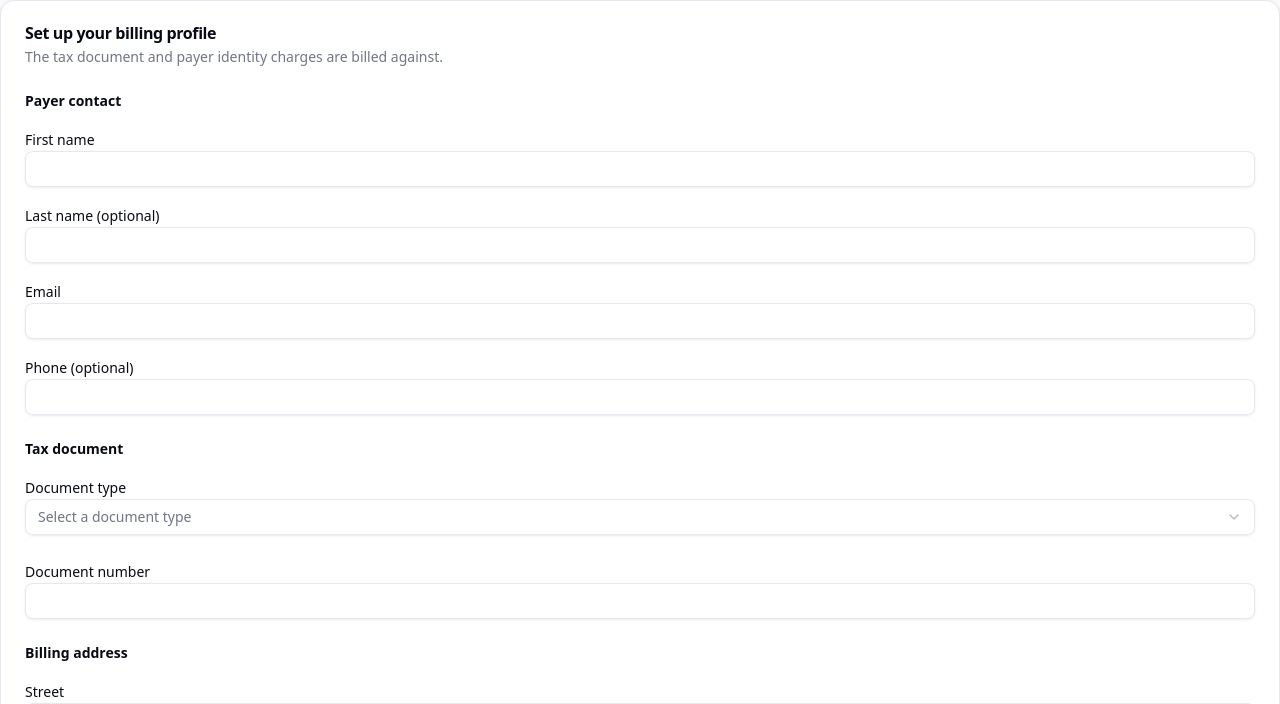
it: BillingProfileForm (Phase 6) › rejects a missing required field and does not submit
The image size is (1280, 704).
In the field labelled "Email": coordinates (640, 321) [25, 303, 1255, 339], type "grace@example.com"
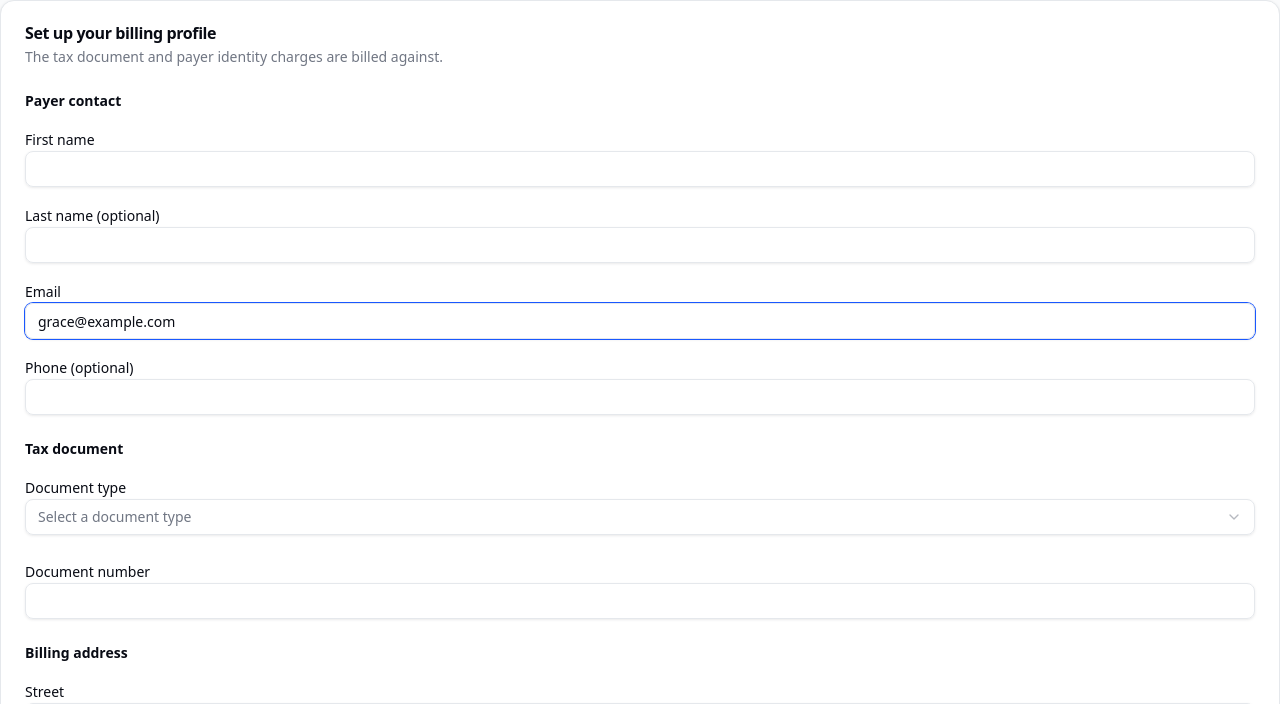
Click the dropdown labelled "document type": coordinates (115, 516) [25, 499, 1255, 535]
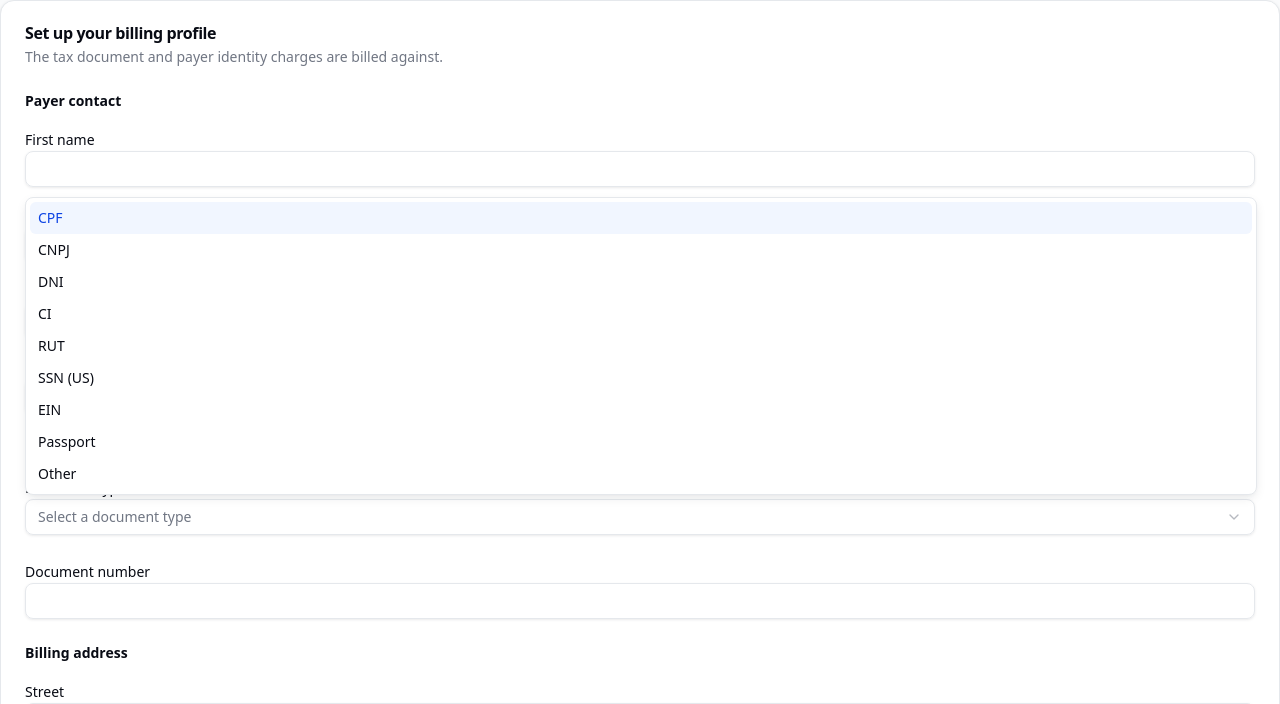
Click the option "Other": coordinates (57, 474) [38, 464, 76, 483]
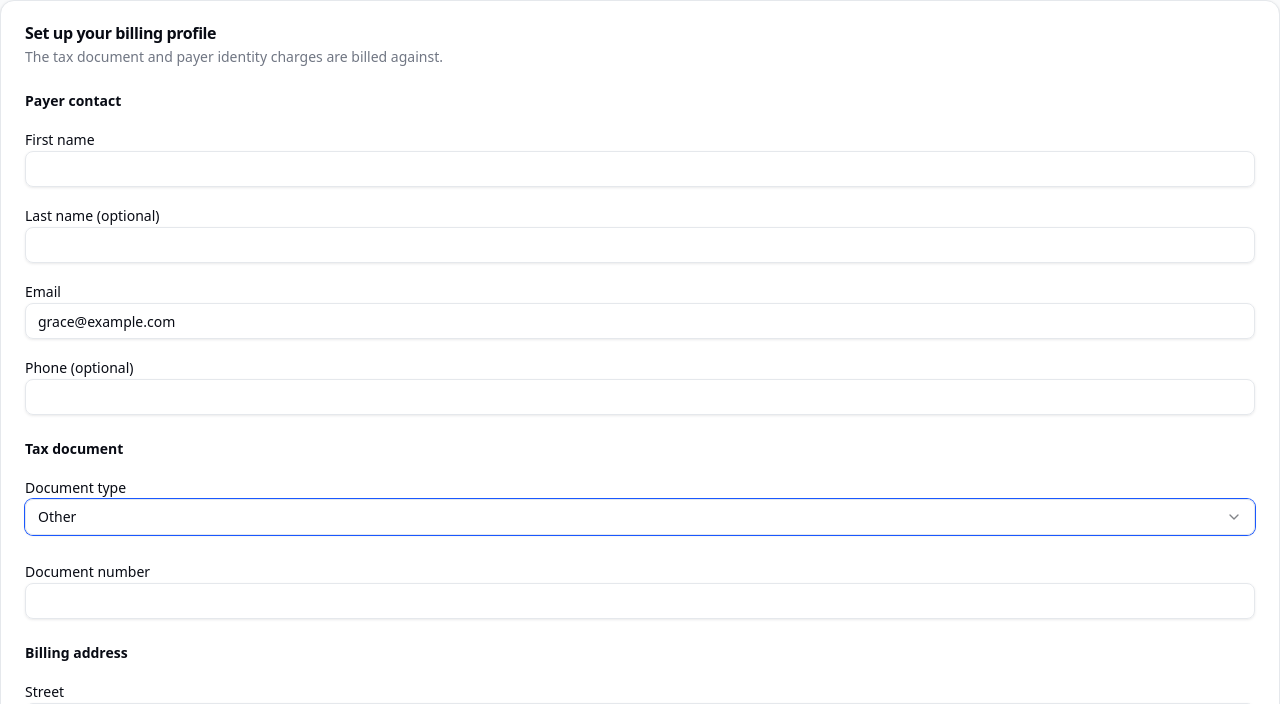
In the field labelled "Document number": coordinates (640, 601) [25, 583, 1255, 619], type "987654321"
(page scrolled)
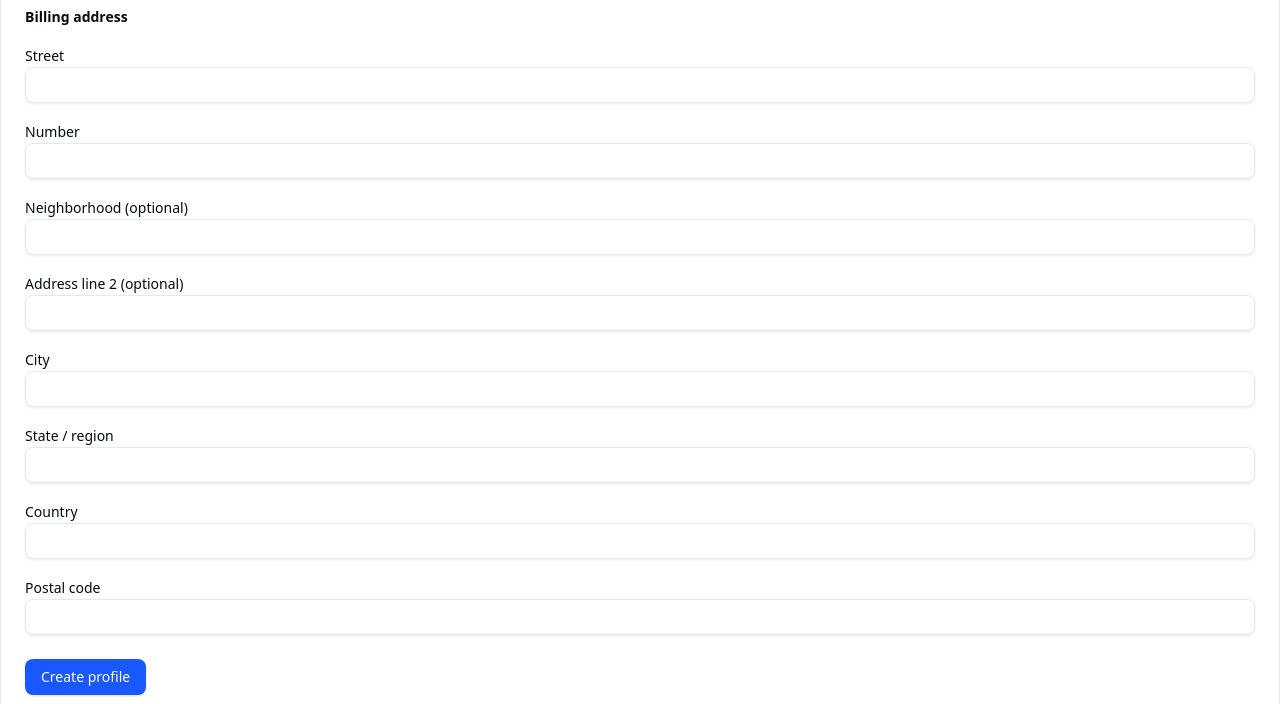
Click the button with test id "billing-profile-submit": coordinates (86, 677) [25, 659, 146, 695]
(page scrolled)
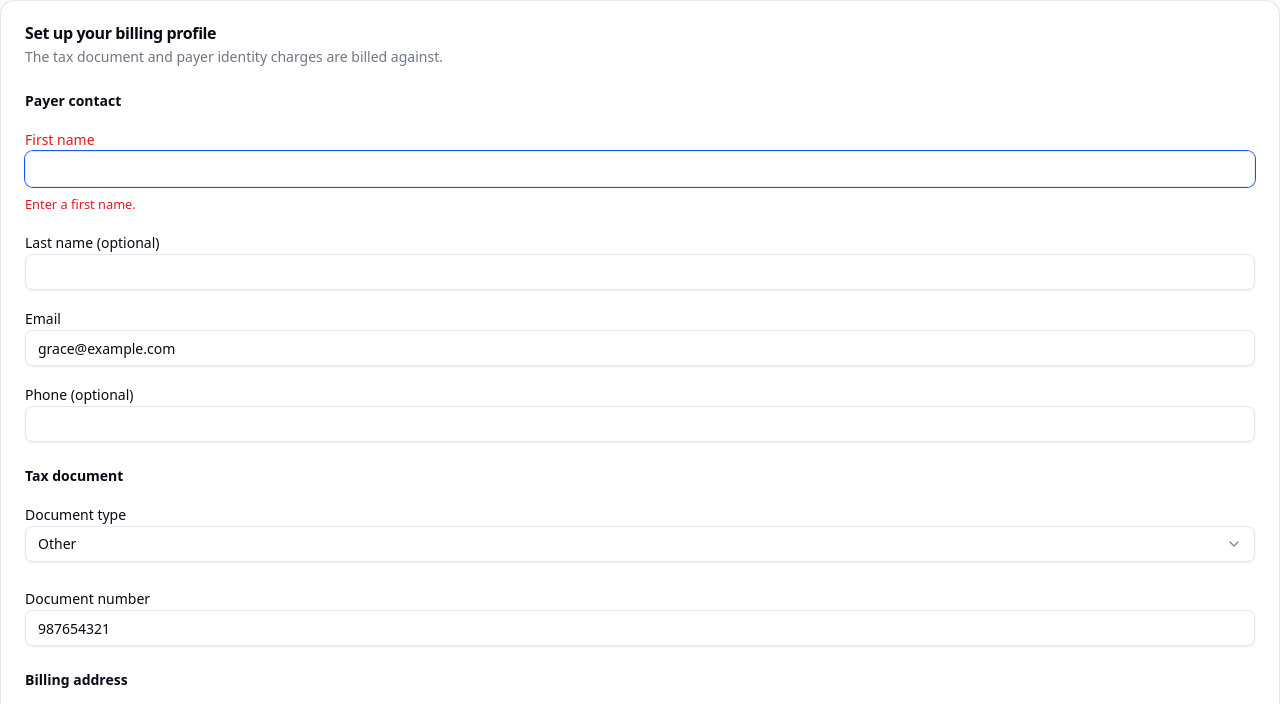
Result: the text "Enter a first name." is shown at [25, 195, 136, 213]
